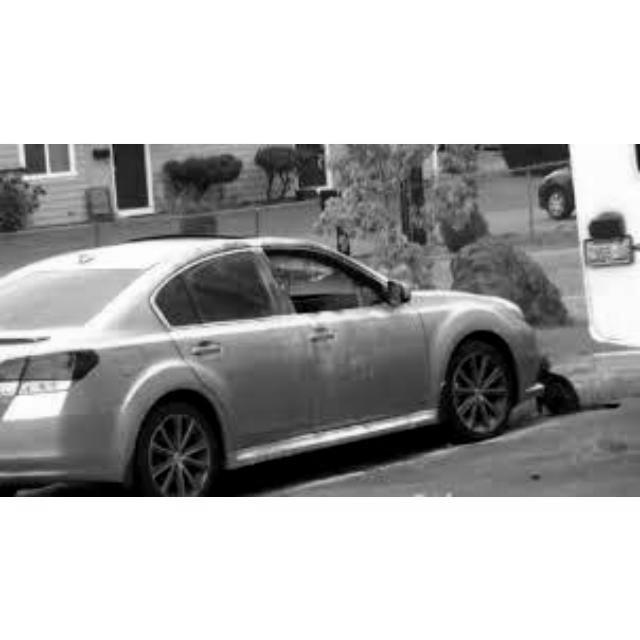doorouter-dent: (308, 245, 405, 425)
